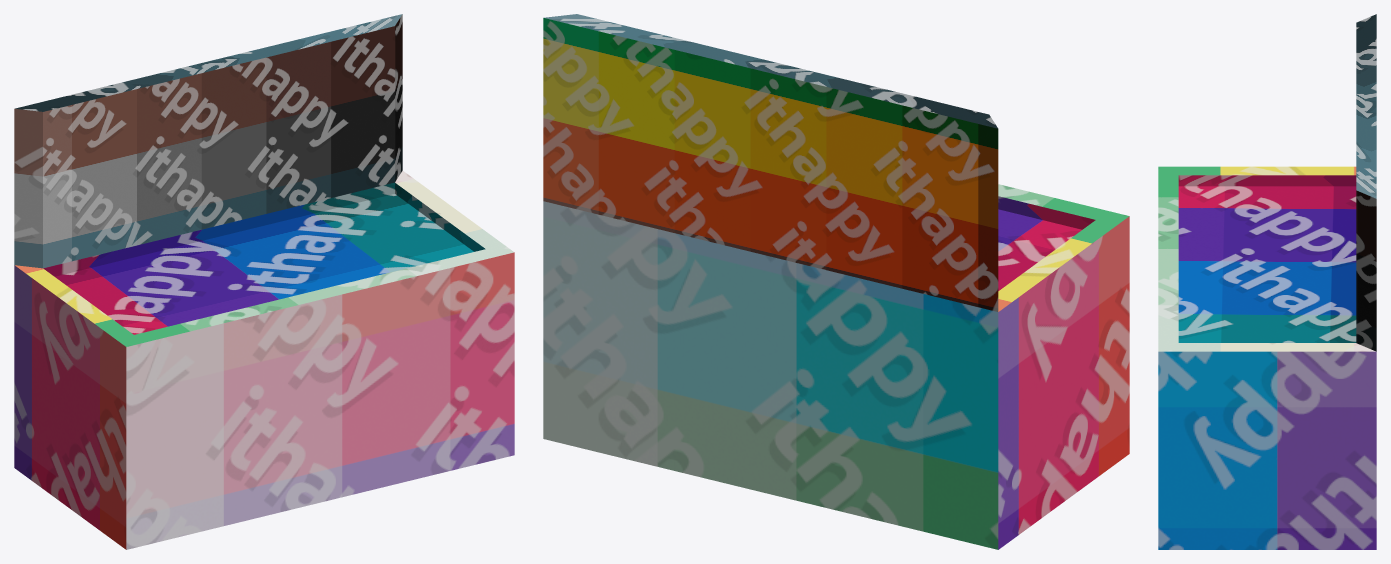
Rendered from Frutas_Container.obj.
The picture shows the model from 3 angles, left to right: view 1: azimuth 30°, elevation 25°; view 2: azimuth 150°, elevation 25°; view 3: azimuth 270°, elevation 25°; orthographic projection. The views are drawn at different scales.
Parts seen in each view (by area): view 1: Cube; view 2: Cube; view 3: Cube.
Boxes of the visible parts, bbox=[...] form: Cube: bbox=[14, 14, 514, 549]; Cube: bbox=[543, 14, 1129, 549]; Cube: bbox=[1158, 14, 1376, 549].
Bounding box in the file's own units: 4 × 3.54 × 2.
1 material, 1 textured.
